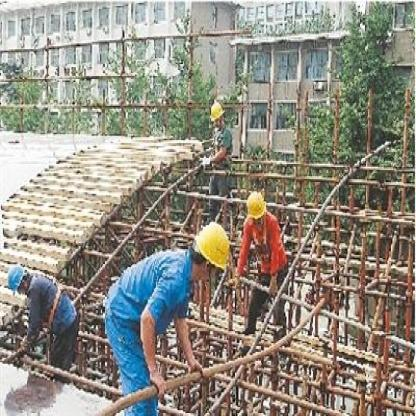helmet: (190, 216, 231, 289), (6, 264, 35, 298), (244, 188, 268, 228), (208, 97, 228, 130)
